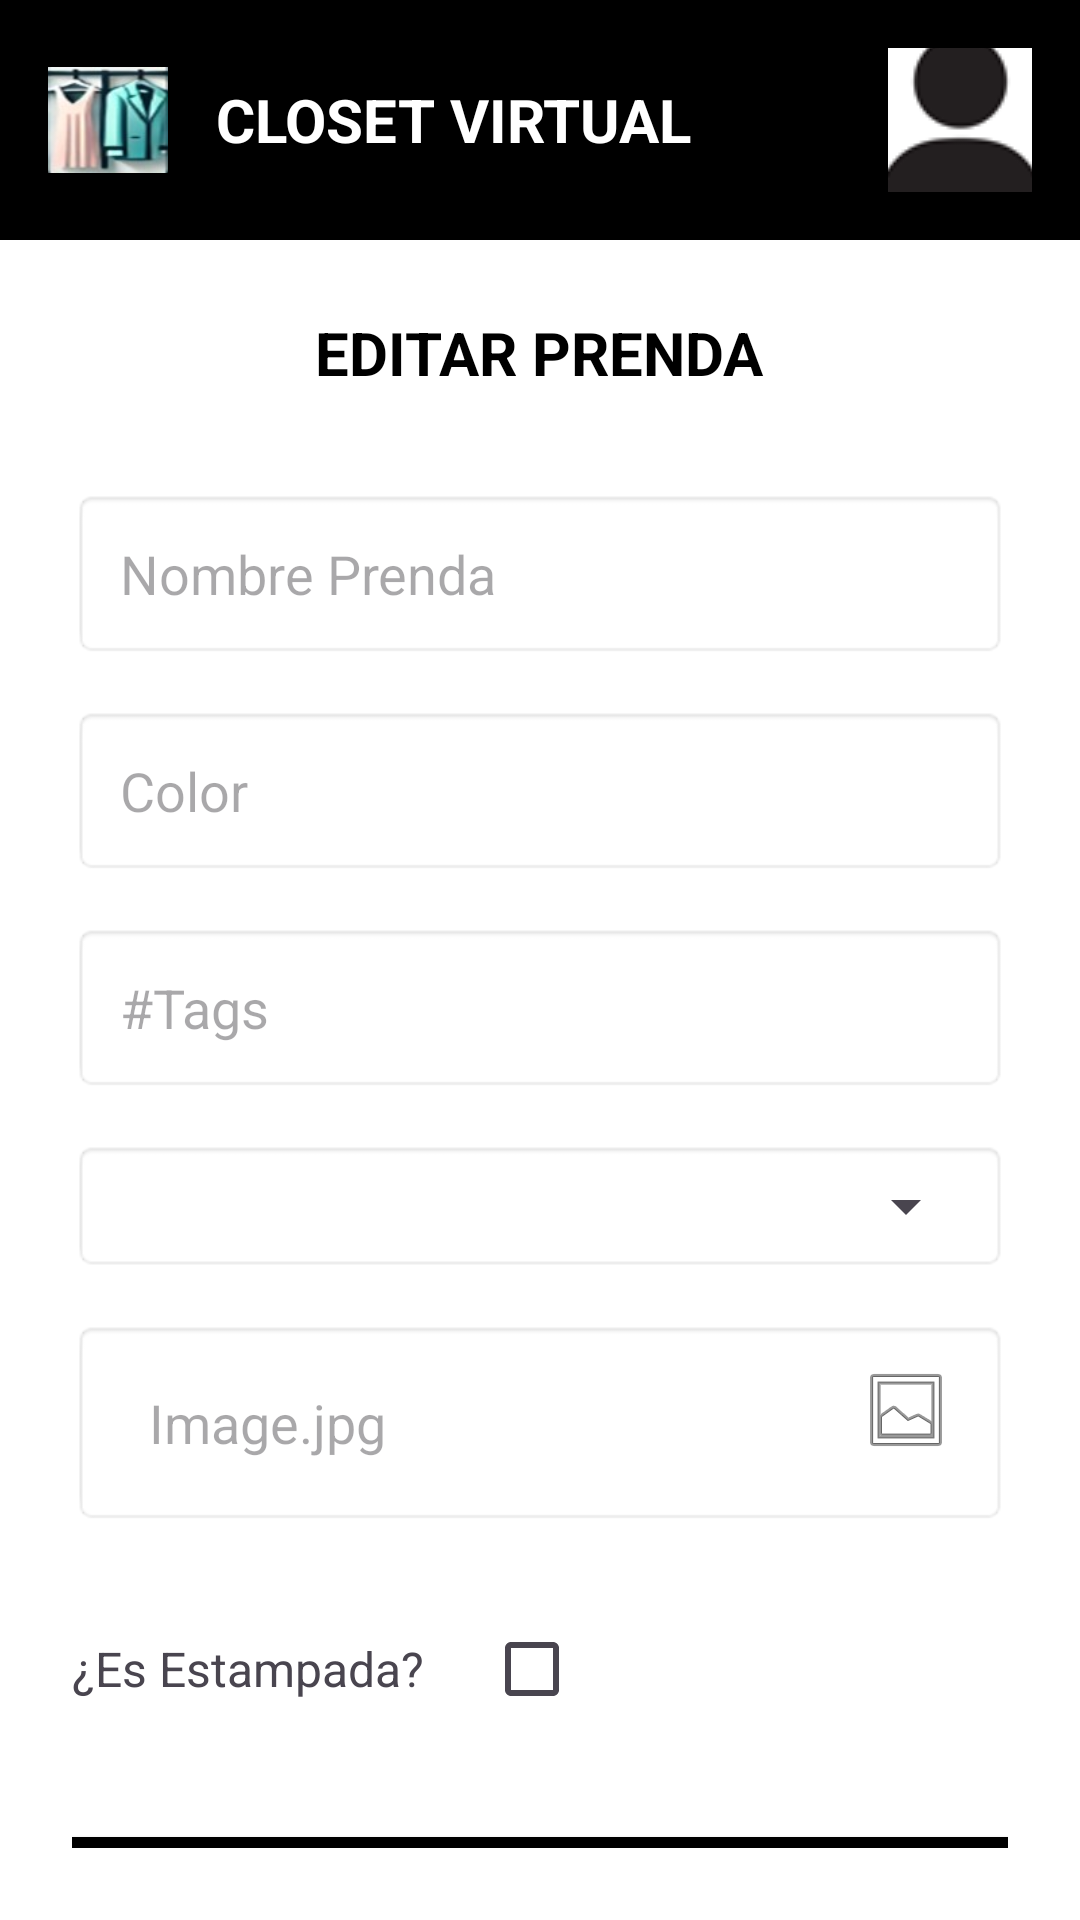

Screen size 1080 x 1920. Icon name, then its center in pixels as (x=x, y=y):
gallery: (x=906, y=1410)
user iconn: (x=960, y=120)
